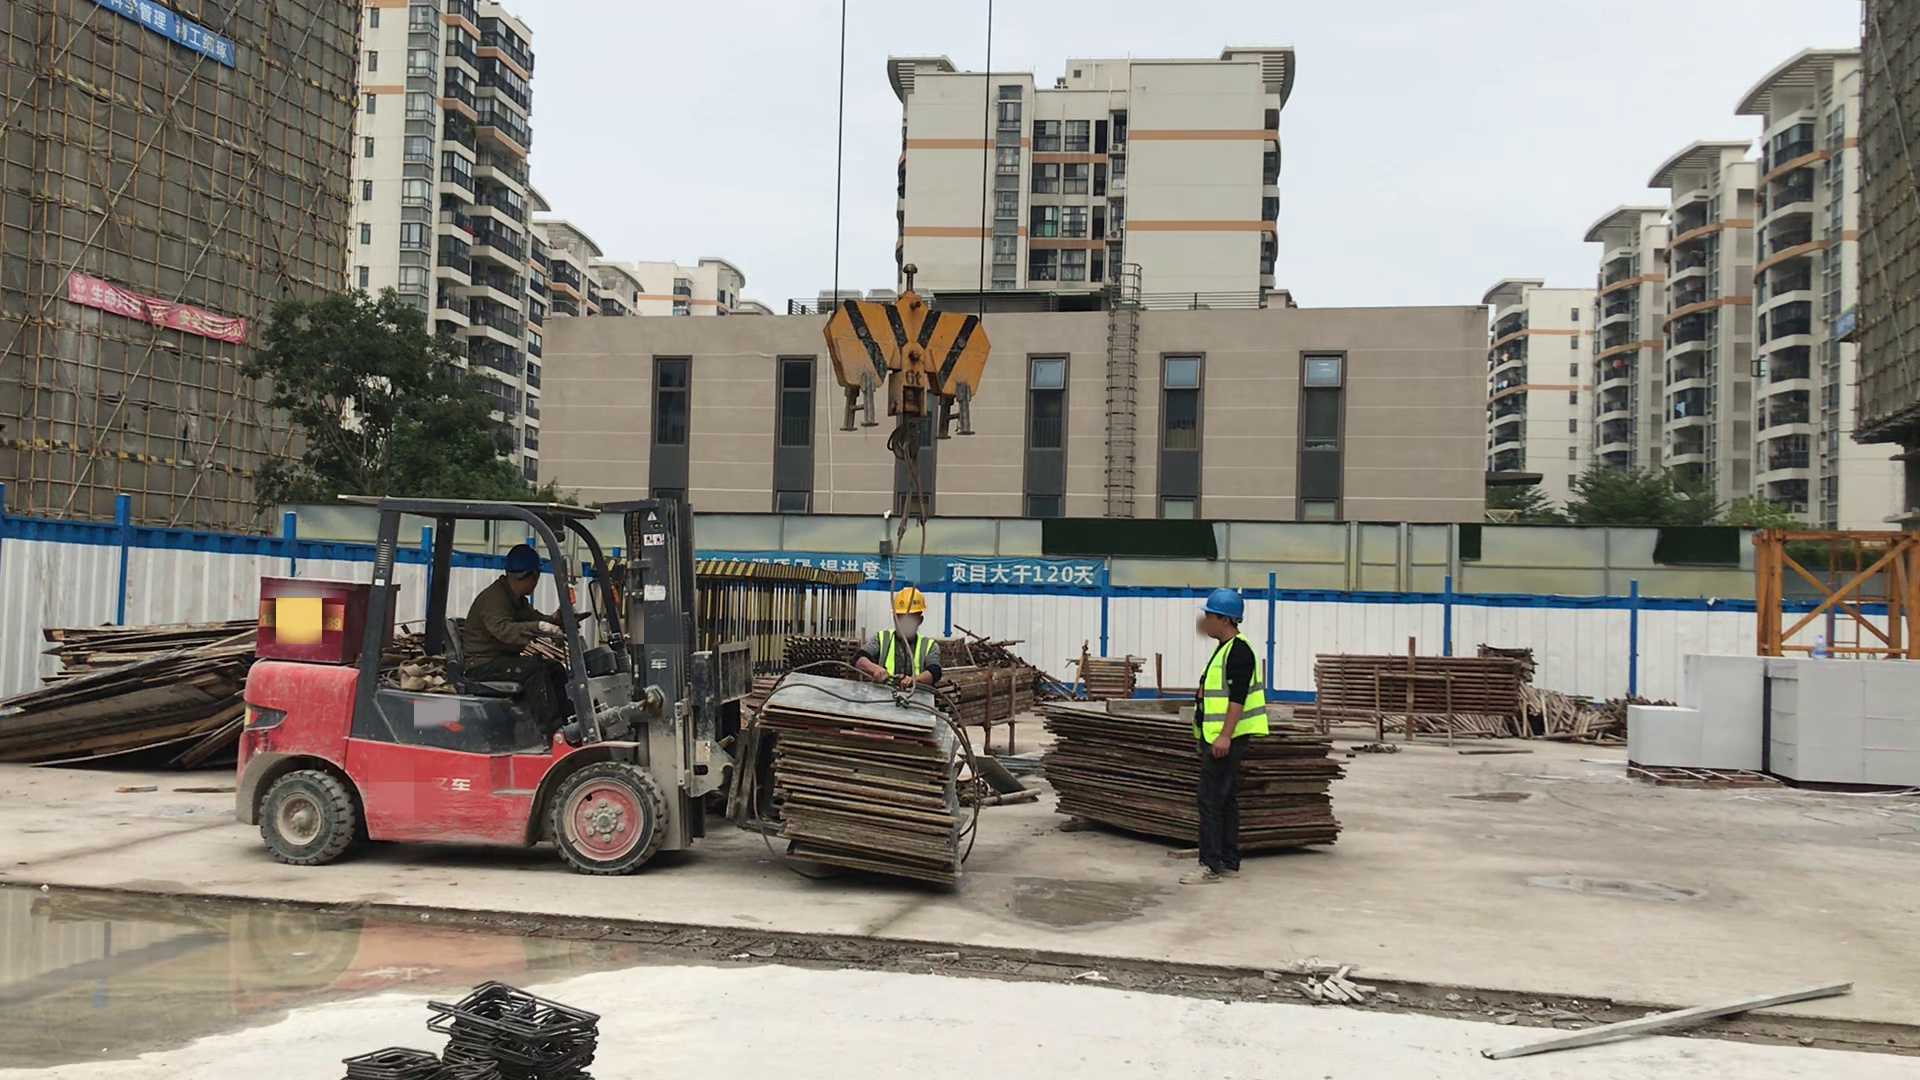board: (1055, 699, 1342, 854), (767, 670, 966, 881)
brick: (1778, 658, 1920, 782), (1624, 654, 1763, 770)
helmet: (501, 543, 542, 577), (1200, 592, 1244, 618), (893, 583, 923, 611)
hook: (825, 266, 990, 453)
person: (1176, 587, 1269, 886), (459, 543, 583, 754), (850, 586, 943, 687)
slogan: (69, 276, 243, 347), (770, 558, 1106, 592), (90, 1, 232, 62)
vest: (1194, 634, 1269, 743)
